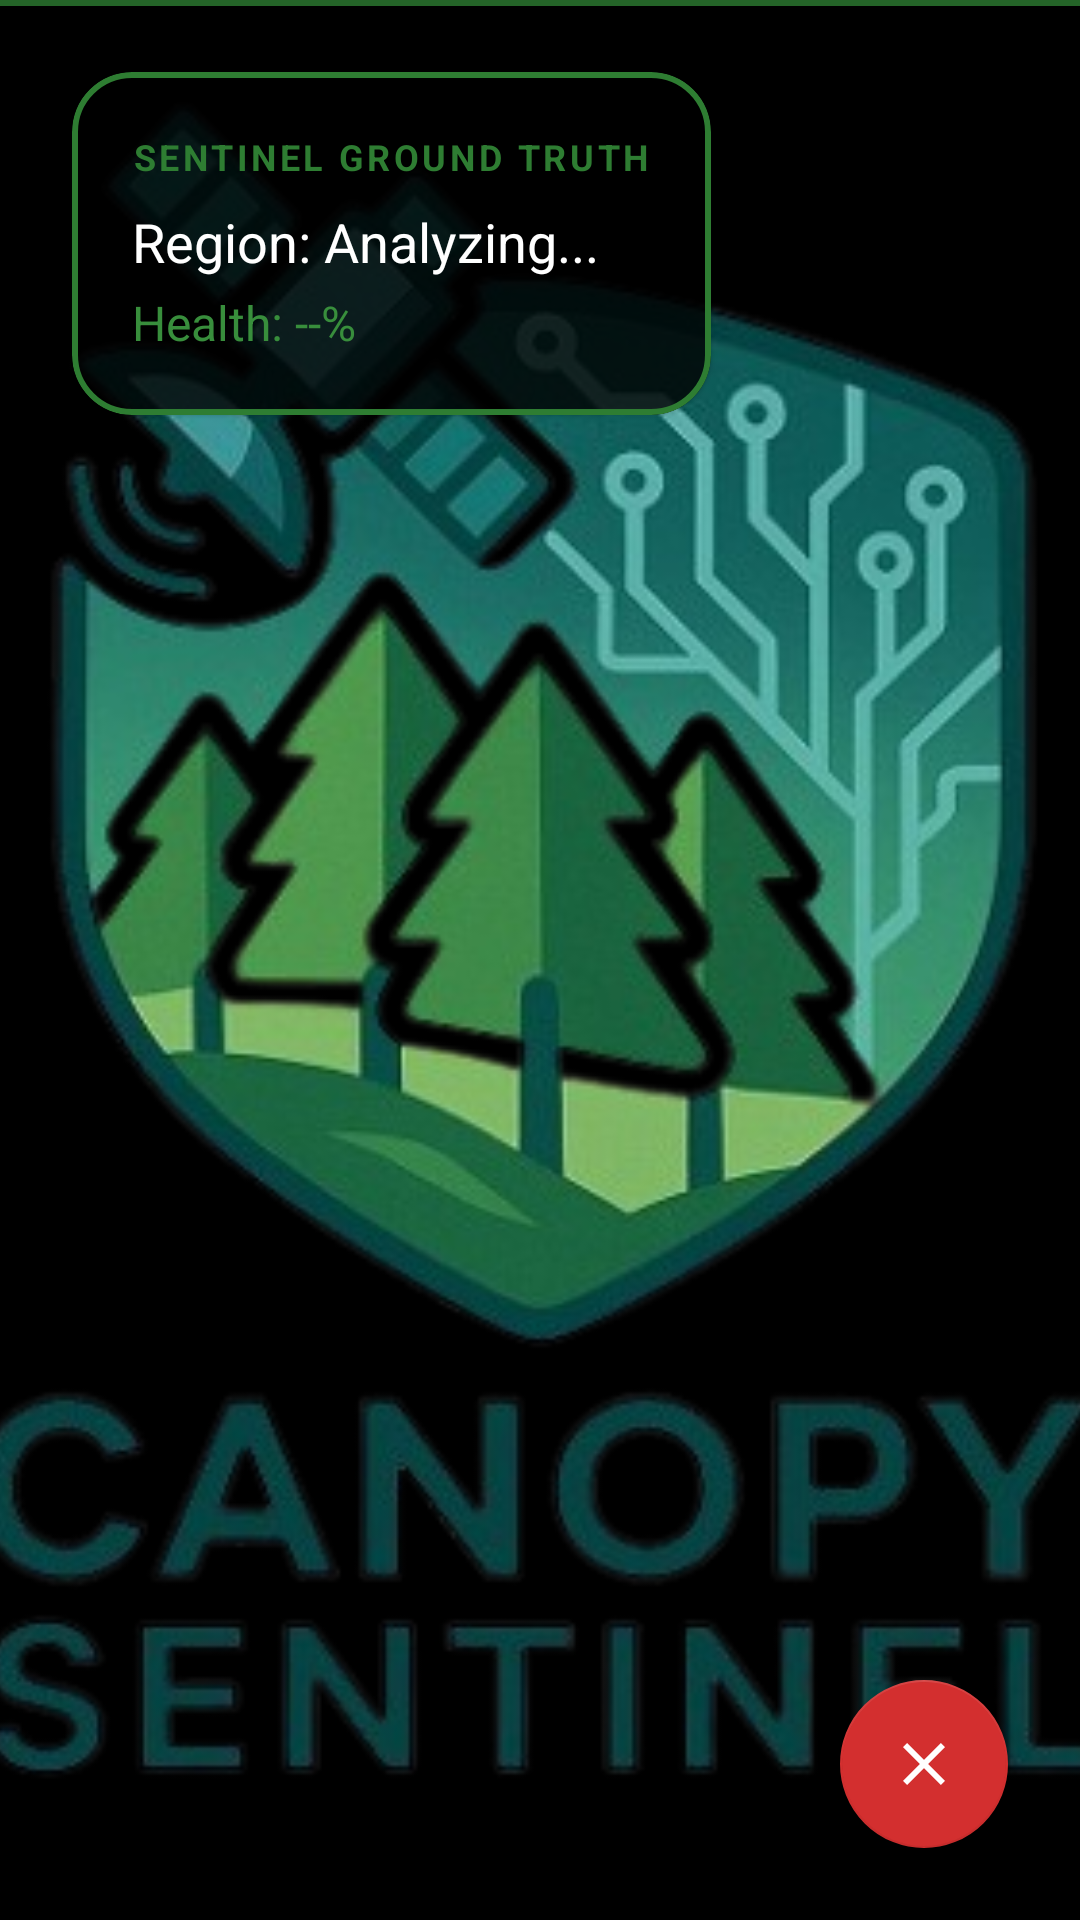

Icons on this 1080px x 1920px Android screen, each with the point to tap as point (x, y):
Exit AR View: point (924, 1764)
